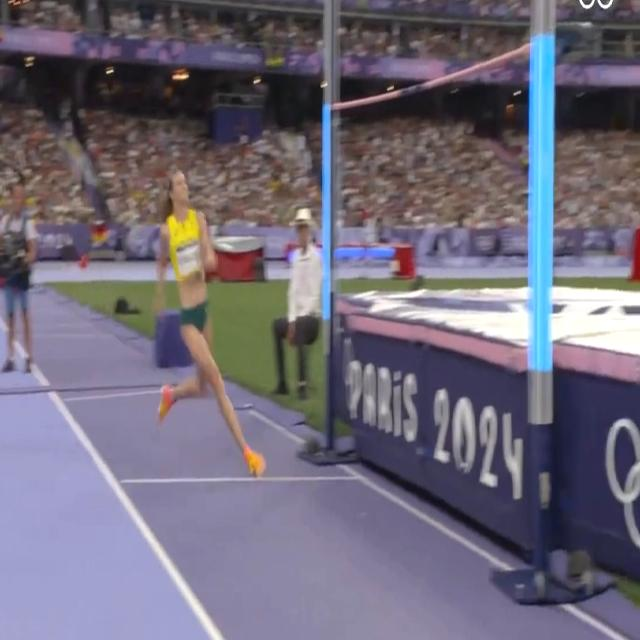run: (155, 171, 264, 479)
